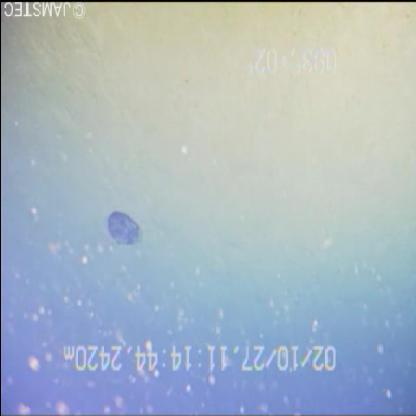Rác: (95, 196, 149, 264)
